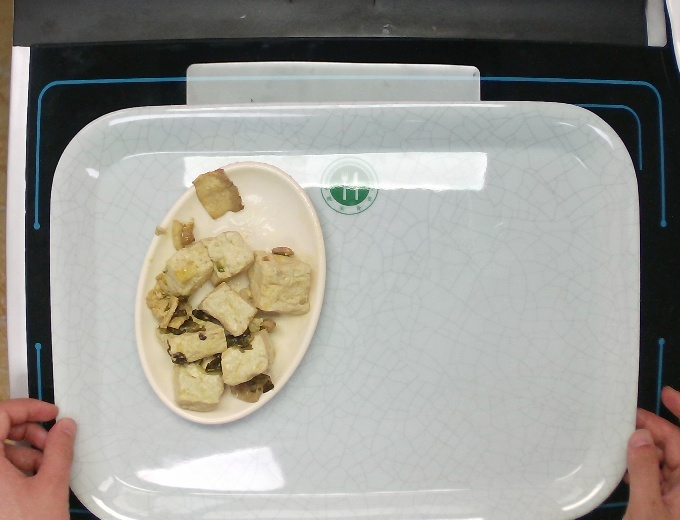JYsf-Tuo_Yuan_Wan: (134, 161, 328, 425)
